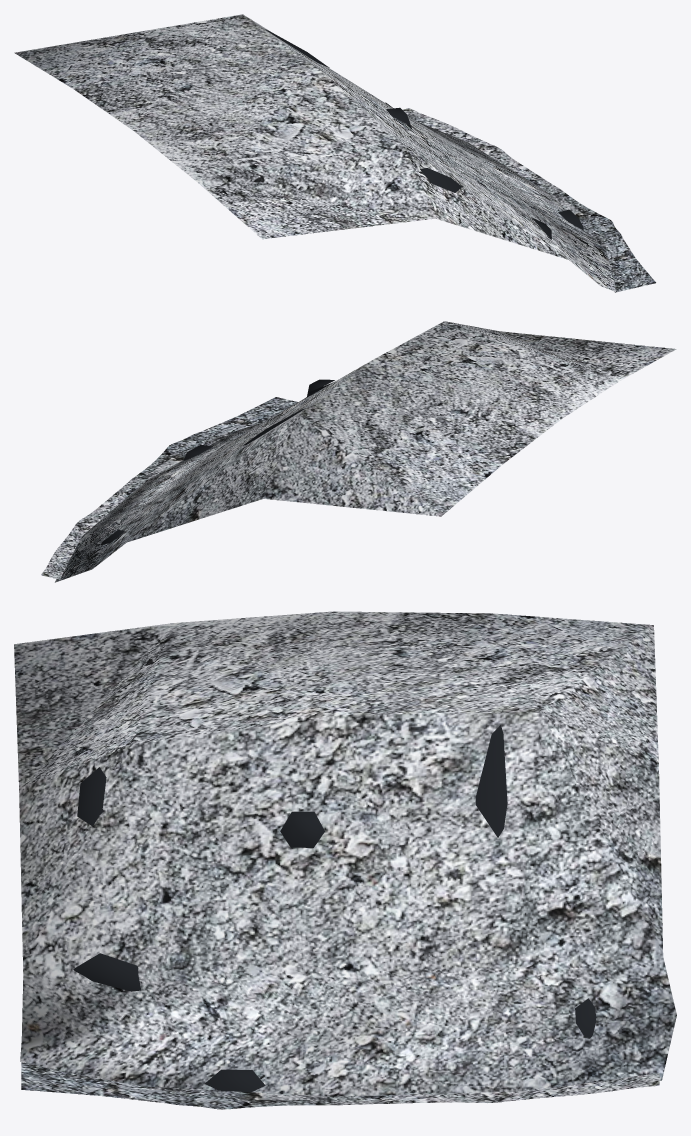
File: zola.fbx
The picture shows the model from 3 angles, top to bottom: view 1: azimuth 30°, elevation 25°; view 2: azimuth 150°, elevation 25°; view 3: azimuth 270°, elevation 25°; orthographic projection. The views are drawn at different scales.
Parts seen in each view (by area): view 1: zola, zola.001; view 2: zola, zola.001; view 3: zola, zola.001.
Boxes of the visible parts, x1,y1,x2,y2 form: zola: [14, 14, 615, 291]; zola.001: [402, 108, 655, 292]; zola: [55, 321, 676, 582]; zola.001: [41, 397, 297, 580]; zola: [14, 611, 676, 1096]; zola.001: [21, 1062, 659, 1109].
Size of the model in its own units: 0.3717 by 0.1446 by 0.3554.
